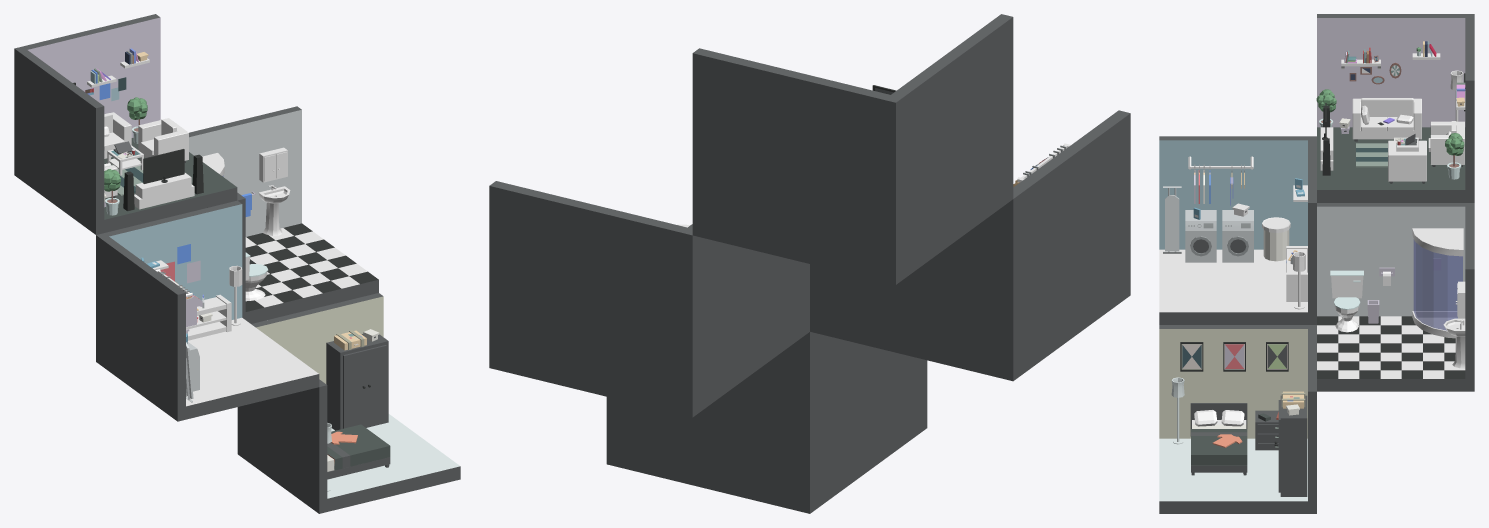
Rendered from isometric_cafe.glb.
3 renders of one model, left to right at view 1: azimuth 30°, elevation 25°; view 2: azimuth 150°, elevation 25°; view 3: azimuth 270°, elevation 25°, orthographic. The views are drawn at different scales.
Parts seen in each view (by area): view 1: Lavadero, Sala, Pieza, object 2, ropero_caja, Cama_Colchon, pCube77, pCube114, pCube32, pCylinder6, pCube113, pCube112 (+2 smaller); view 2: Sala, object 2, Lavadero, Pieza; view 3: object 2, Lavadero, Sala, Pieza, pPlane5, ropero_caja, Cama_Colchon, pCube77, pCube34, pCube35, pCylinder9, pCube92 (+17 smaller).
Boxes of the visible parts, <box> form: Lavadero: <box>96,200,319,421</box>; Sala: <box>14,14,237,234</box>; Pieza: <box>237,293,460,513</box>; object 2: <box>189,106,378,323</box>; ropero_caja: <box>326,334,388,430</box>; Cama_Colchon: <box>327,424,390,471</box>; pCube77: <box>138,118,188,160</box>; pCube114: <box>143,149,184,183</box>; pCube32: <box>259,147,287,182</box>; pCylinder6: <box>258,186,290,235</box>; pCube113: <box>135,173,191,198</box>; pCube112: <box>134,184,194,209</box>; Sala: <box>692,14,1013,284</box>; object 2: <box>489,181,809,417</box>; Lavadero: <box>810,110,1130,381</box>; Pieza: <box>606,332,927,513</box>; object 2: <box>1317,203,1474,391</box>; Lavadero: <box>1159,136,1316,324</box>; Sala: <box>1317,14,1474,202</box>; Pieza: <box>1159,325,1316,513</box>; pPlane5: <box>1413,239,1462,330</box>; ropero_caja: <box>1278,395,1307,496</box>; Cama_Colchon: <box>1191,420,1247,465</box>; pCube77: <box>1388,140,1426,181</box>; pCube34: <box>1185,210,1216,262</box>; pCube35: <box>1222,210,1253,262</box>; pCylinder9: <box>1412,228,1463,256</box>; pCube92: <box>1352,98,1421,139</box>.
Size of the model in its own units: 6.99 by 8.99 by 6.99.
1 material, 1 textured.
